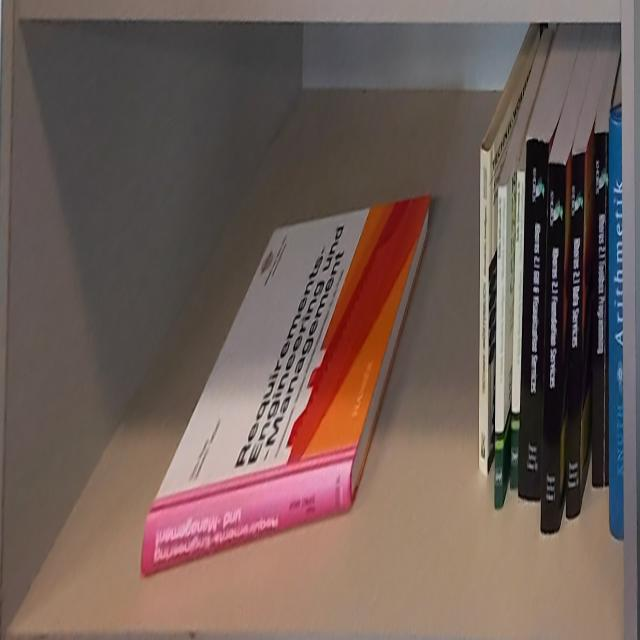Book Spine: (140, 460, 354, 577), (517, 139, 549, 503), (541, 161, 568, 534), (565, 153, 585, 520), (591, 132, 610, 489), (609, 104, 624, 541), (509, 169, 526, 488), (478, 145, 492, 475), (494, 184, 508, 510)
